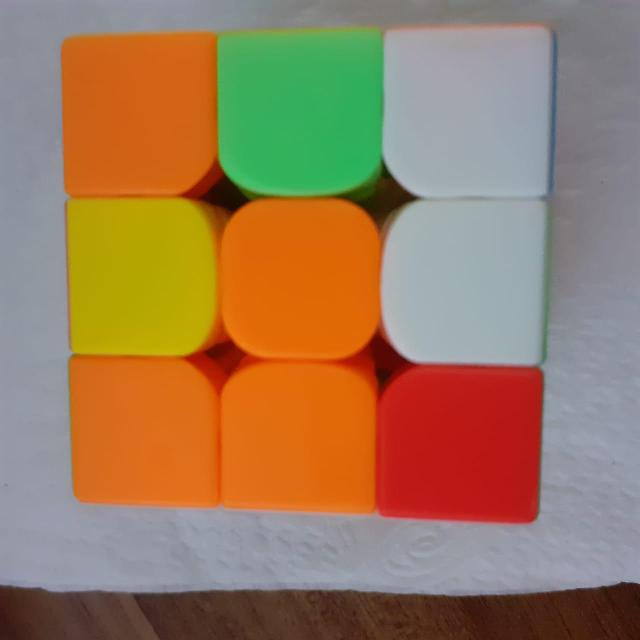Green: (218, 39, 380, 193)
Orange: (60, 35, 214, 193), (222, 198, 370, 356), (70, 365, 216, 499)
Red: (377, 376, 537, 520)
White: (384, 31, 548, 195), (378, 202, 542, 366), (66, 199, 214, 353)
Yellow: (226, 368, 370, 516)
